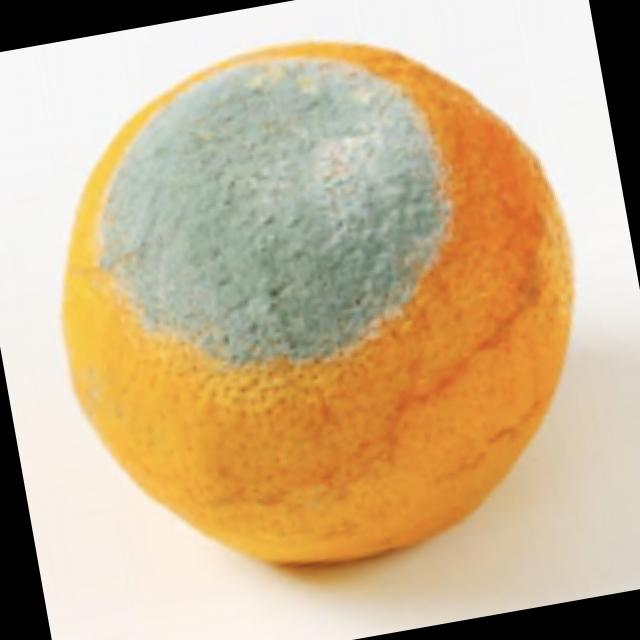rotten-orange: (21, 0, 621, 611)
